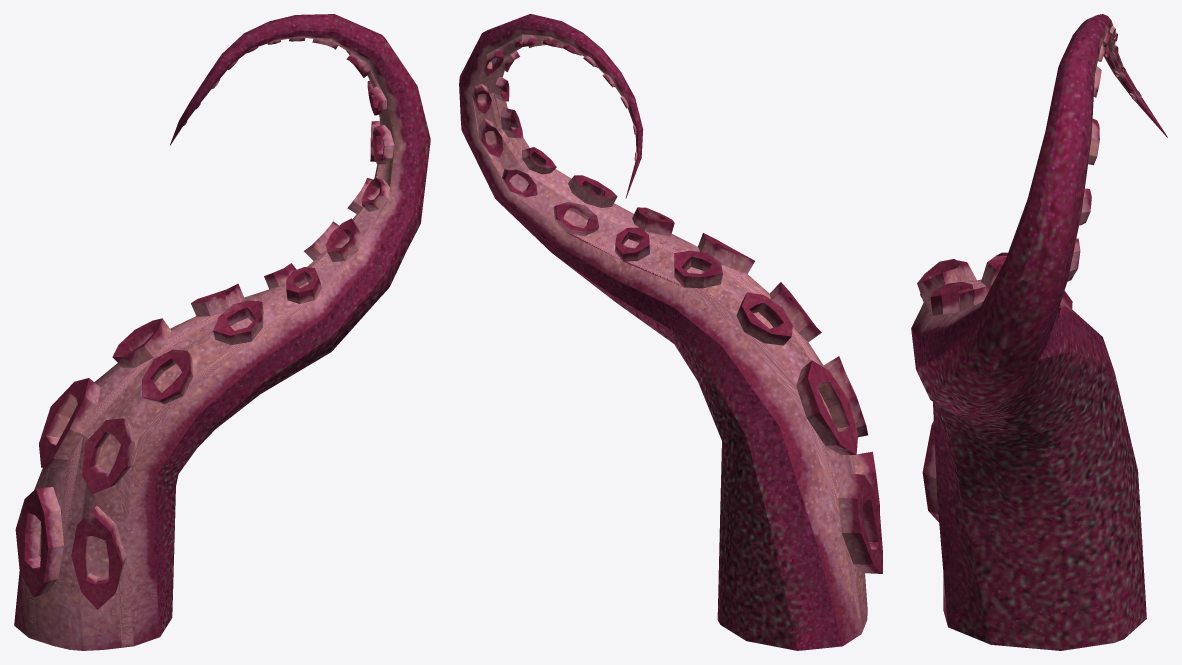
The model's file is tentacles.fbx.
3 renders of one model, left to right at view 1: azimuth 30°, elevation 25°; view 2: azimuth 150°, elevation 25°; view 3: azimuth 270°, elevation 25°, orthographic. The views are drawn at different scales.
Visible parts, largest first — view 1: Cone001_Material #27_0.004; view 2: Cone001_Material #27_0.004; view 3: Cone001_Material #27_0.004.
Boxes of the visible parts, x1=… form: Cone001_Material #27_0.004: x1=14, y1=14, x2=430, y2=650; Cone001_Material #27_0.004: x1=459, y1=14, x2=882, y2=650; Cone001_Material #27_0.004: x1=911, y1=14, x2=1167, y2=650.
Size of the model in its own units: 1108 by 1421 by 454.
